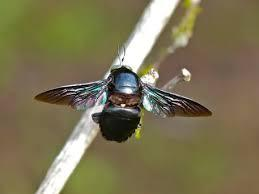Xylocopa: (40, 50, 213, 144)
